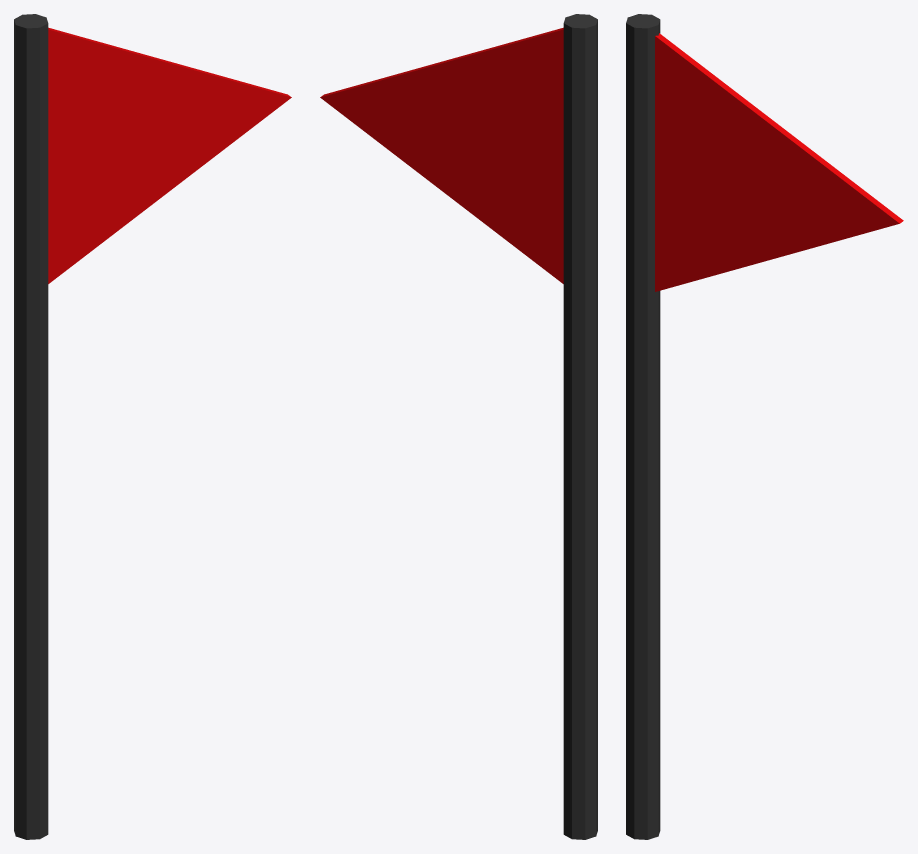
File: flag.fbx
3 renders of one model, left to right at view 1: azimuth 30°, elevation 25°; view 2: azimuth 150°, elevation 25°; view 3: azimuth 330°, elevation 25°, orthographic.
Visible parts, largest first — view 1: Cylinder.002; view 2: Cylinder.002; view 3: Cylinder.002.
Part boxes in pixels (x1=…): Cylinder.002: x1=14, y1=14, x2=291, y2=839; Cylinder.002: x1=320, y1=14, x2=597, y2=839; Cylinder.002: x1=626, y1=14, x2=903, y2=839.
Bounding box in the file's own units: 129 × 366 × 14.51.
